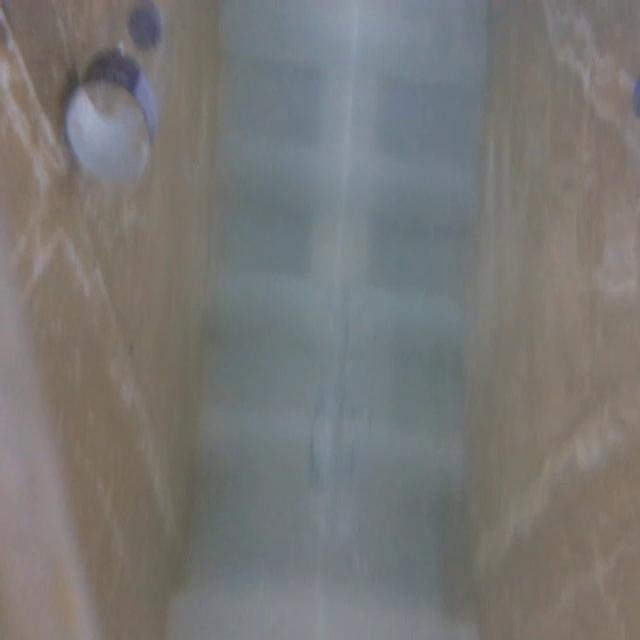plastic bottle: (63, 0, 180, 230)
